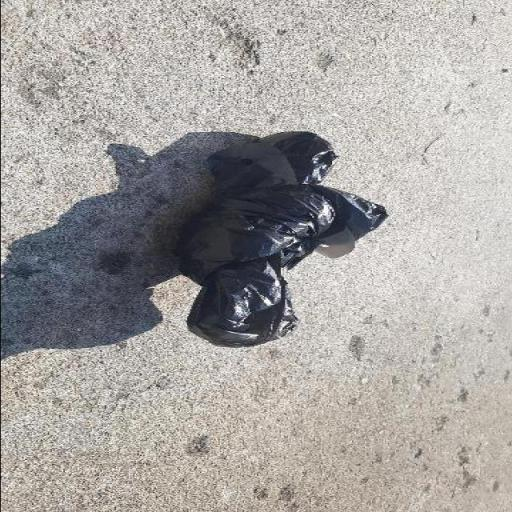plastic-bag: (174, 128, 394, 346)
